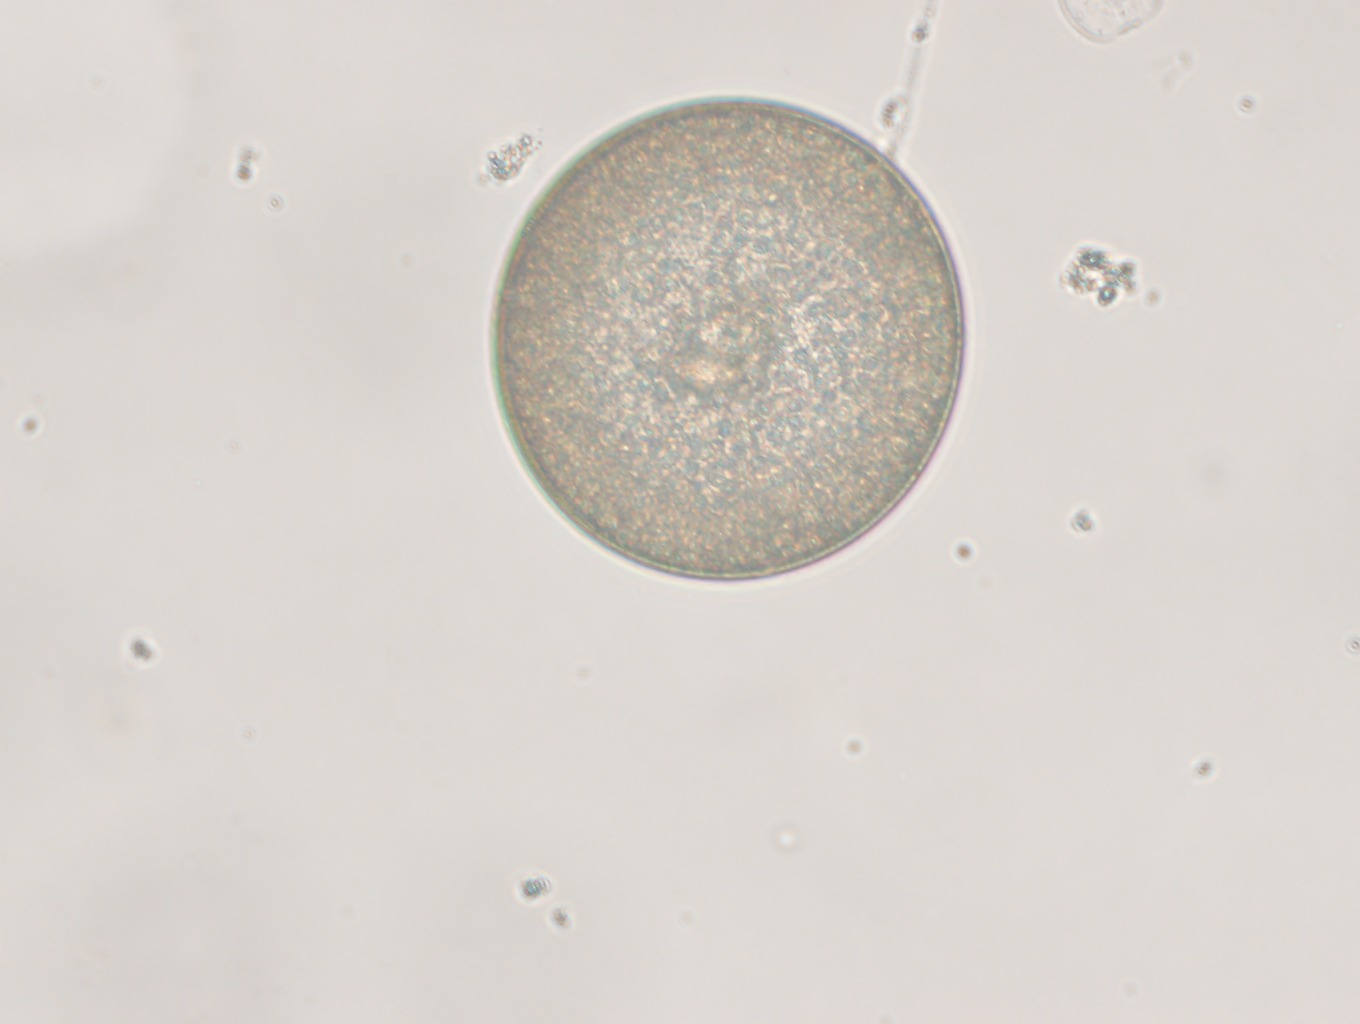coscinodiscus: (491, 94, 969, 587)
